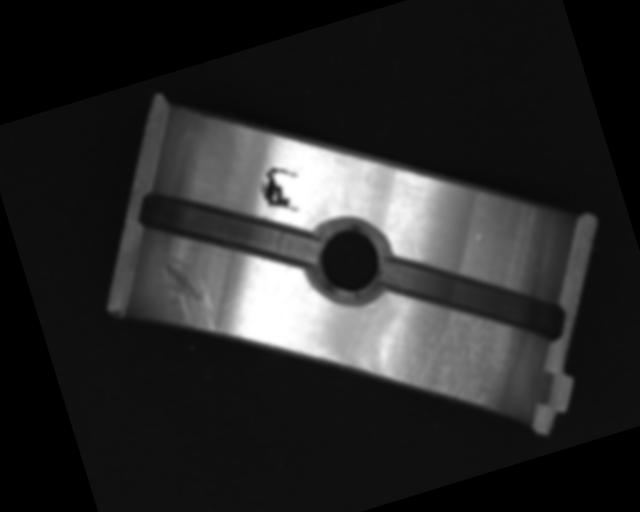blot: (255, 160, 309, 221)
bruise: (474, 230, 488, 244)
gap: (375, 216, 572, 384), (132, 152, 319, 310)
hole: (298, 207, 402, 310)
nick: (154, 244, 220, 343)
scratch: (348, 296, 534, 446)
